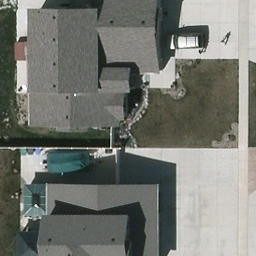car: (164, 33, 203, 51)
